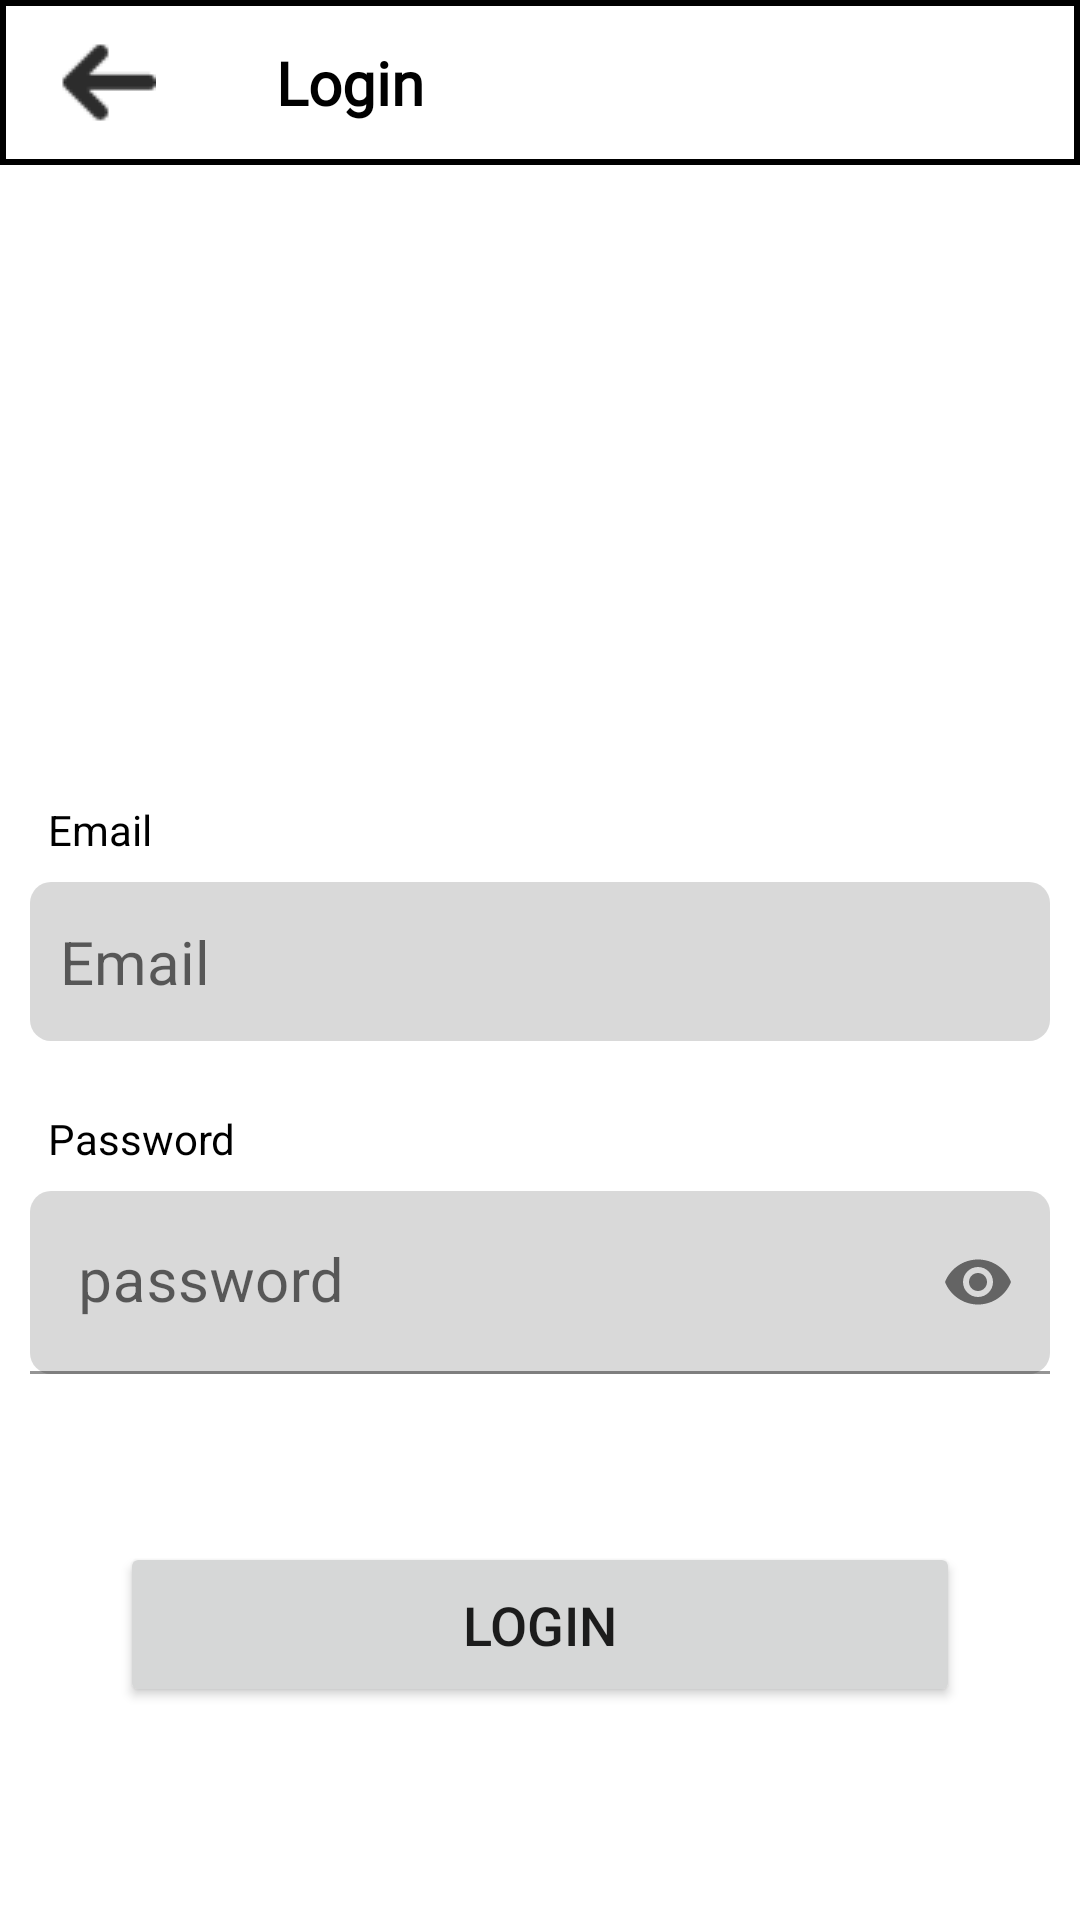

Icon bounding boxes for this 1080 × 1920 phone screenshot, format BBox(x1, y1, x2, y2):
back arrow: BBox(62, 44, 156, 121)
